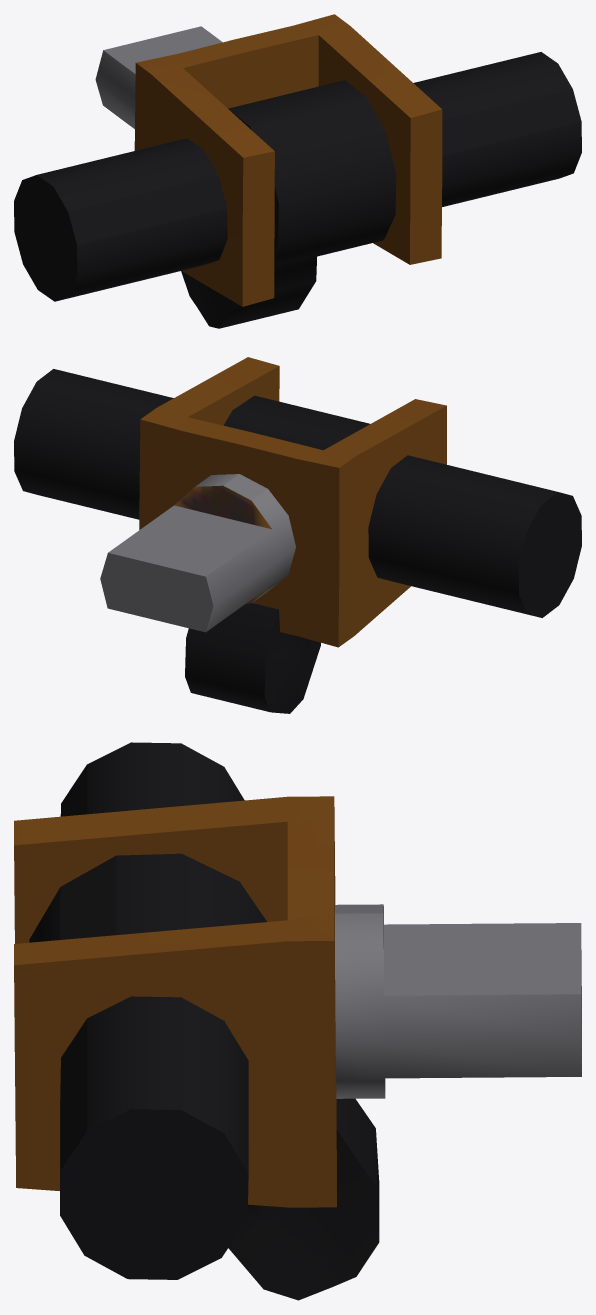
File: wristB.obj
3 views of the same model, one above another, from view 1: azimuth 30°, elevation 25°; view 2: azimuth 150°, elevation 25°; view 3: azimuth 270°, elevation 25° (orthographic). The views are drawn at different scales.
Parts seen in each view (by area): view 1: handB:hand_lowpolySurface397polySurface20, handB:hand_lowpolySurface397polySurface49, handB:hand_lowpolySurface397polySurface15, handB:hand_lowpolySurface397polySurface3, handB:hand_lowpolySurface397polySurface21, handB:hand_lowpolySurface397polySurface24, handB:hand_lowpolySurface397polySurface40, handB:hand_lowpolySurface397polySurface22, handB:hand_lowpolySurface397polySurface7, handB:hand_lowpolySurface397polySurface25, handB:hand_lowpolySurface397polySurface19; view 2: handB:hand_lowpolySurface397polySurface20, handB:hand_lowpolySurface397polySurface47, handB:hand_lowpolySurface397polySurface49, handB:hand_lowpolySurface397polySurface3, handB:hand_lowpolySurface397polySurface15, handB:hand_lowpolySurface397polySurface19, handB:hand_lowpolySurface397polySurface25, handB:hand_lowpolySurface397polySurface34, handB:hand_lowpolySurface397polySurface24, handB:hand_lowpolySurface397polySurface44, handB:hand_lowpolySurface397polySurface40; view 3: handB:hand_lowpolySurface397polySurface4, handB:hand_lowpolySurface397polySurface20, handB:hand_lowpolySurface397polySurface49, handB:hand_lowpolySurface397polySurface19, handB:hand_lowpolySurface397polySurface27, handB:hand_lowpolySurface397polySurface15, handB:hand_lowpolySurface397polySurface25, handB:hand_lowpolySurface397polySurface13.
Boxes of the visible parts, box(x1,y1,x2,y2) form: handB:hand_lowpolySurface397polySurface20: box(37, 52, 581, 301); handB:hand_lowpolySurface397polySurface49: box(181, 80, 396, 328); handB:hand_lowpolySurface397polySurface15: box(136, 14, 441, 157); handB:hand_lowpolySurface397polySurface3: box(134, 63, 243, 306); handB:hand_lowpolySurface397polySurface21: box(183, 35, 318, 108); handB:hand_lowpolySurface397polySurface24: box(14, 175, 77, 301); handB:hand_lowpolySurface397polySurface40: box(318, 35, 410, 264); handB:hand_lowpolySurface397polySurface22: box(242, 151, 274, 306); handB:hand_lowpolySurface397polySurface7: box(410, 109, 442, 264); handB:hand_lowpolySurface397polySurface25: box(103, 26, 222, 73); handB:hand_lowpolySurface397polySurface19: box(95, 50, 135, 128); handB:hand_lowpolySurface397polySurface20: box(14, 369, 557, 616); handB:hand_lowpolySurface397polySurface47: box(139, 419, 339, 647); handB:hand_lowpolySurface397polySurface49: box(185, 395, 369, 713); handB:hand_lowpolySurface397polySurface3: box(338, 405, 446, 647); handB:hand_lowpolySurface397polySurface15: box(140, 357, 446, 467); handB:hand_lowpolySurface397polySurface19: box(195, 474, 295, 631); handB:hand_lowpolySurface397polySurface25: box(108, 505, 271, 576); handB:hand_lowpolySurface397polySurface34: box(100, 553, 213, 632); handB:hand_lowpolySurface397polySurface24: box(518, 492, 581, 617); handB:hand_lowpolySurface397polySurface44: box(174, 485, 271, 529); handB:hand_lowpolySurface397polySurface40: box(188, 366, 279, 425); handB:hand_lowpolySurface397polySurface4: box(14, 941, 336, 1207); handB:hand_lowpolySurface397polySurface20: box(60, 742, 248, 1212); handB:hand_lowpolySurface397polySurface49: box(29, 853, 379, 1300); handB:hand_lowpolySurface397polySurface19: box(334, 904, 581, 1098); handB:hand_lowpolySurface397polySurface27: box(60, 1109, 248, 1279); handB:hand_lowpolySurface397polySurface15: box(14, 796, 334, 965); handB:hand_lowpolySurface397polySurface25: box(384, 923, 581, 995); handB:hand_lowpolySurface397polySurface13: box(14, 821, 287, 943).
Size of the model in its own units: 80.37 by 41.05 by 52.62.
4 materials, 1 textured.
